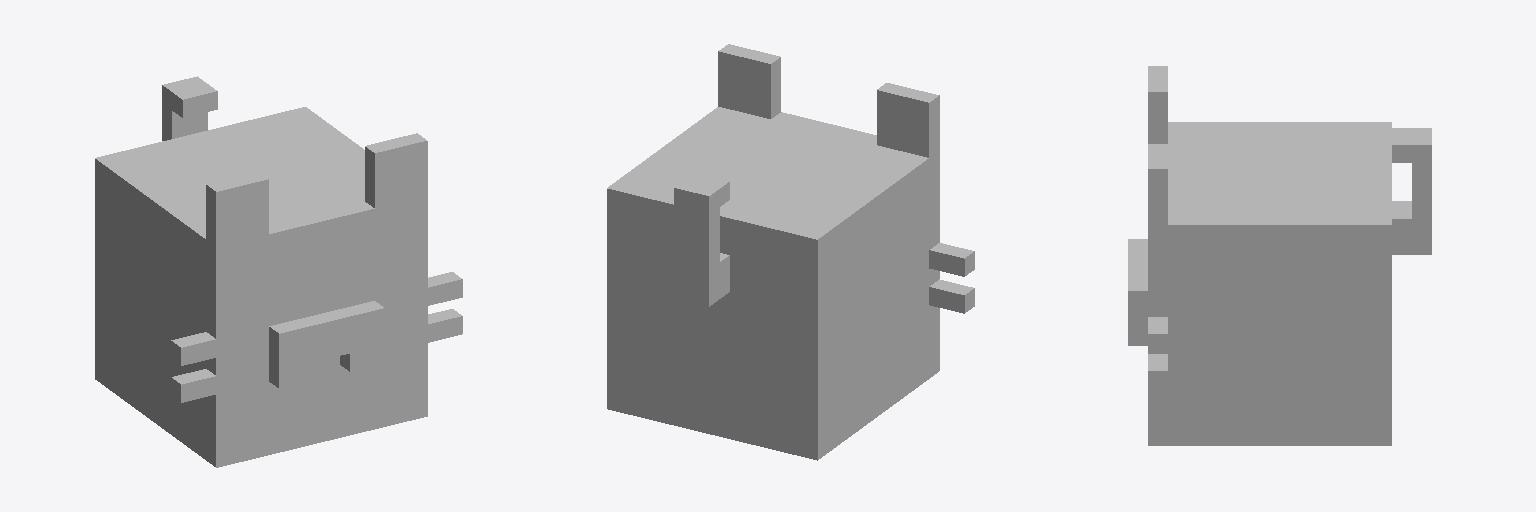
Rendered from cat.obj.
3 renders of one model, left to right at view 1: azimuth 30°, elevation 25°; view 2: azimuth 150°, elevation 25°; view 3: azimuth 270°, elevation 25°, orthographic.
Parts seen in each view (by area): view 1: cat; view 2: cat; view 3: cat.
Part boxes in pixels (bbox=[...]): cat: bbox=[95, 76, 462, 467]; cat: bbox=[607, 44, 974, 460]; cat: bbox=[1128, 66, 1431, 445].
Bounding box in the file's own units: 16 × 15 × 15.